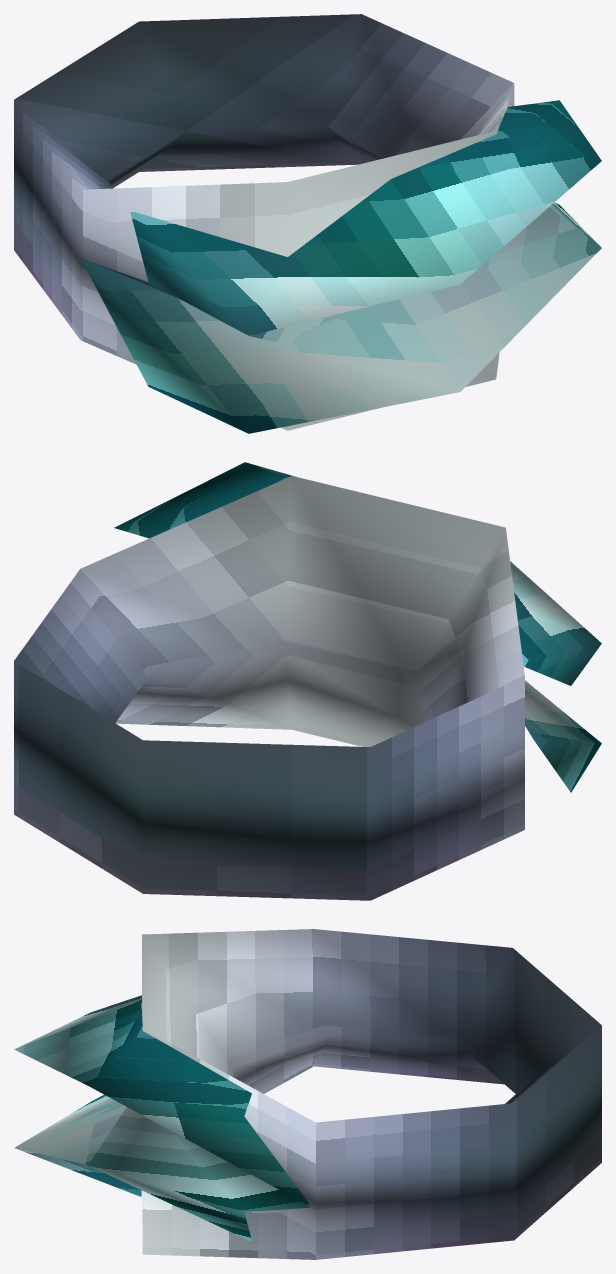
The model's file is windring.glb.
3 renders of one model, top to bottom at view 1: azimuth 30°, elevation 25°; view 2: azimuth 150°, elevation 25°; view 3: azimuth 270°, elevation 25°, orthographic. The views are drawn at different scales.
Parts seen in each view (by area): view 1: model_windring; view 2: model_windring; view 3: model_windring.
Boxes of the visible parts, x1,y1,x2,y2 form: model_windring: [14, 14, 601, 433]; model_windring: [14, 462, 601, 900]; model_windring: [14, 929, 601, 1259].
Size of the model in its own units: 0.2238 by 0.1194 by 0.2803.
Materials: 2 (2 with a texture image).
